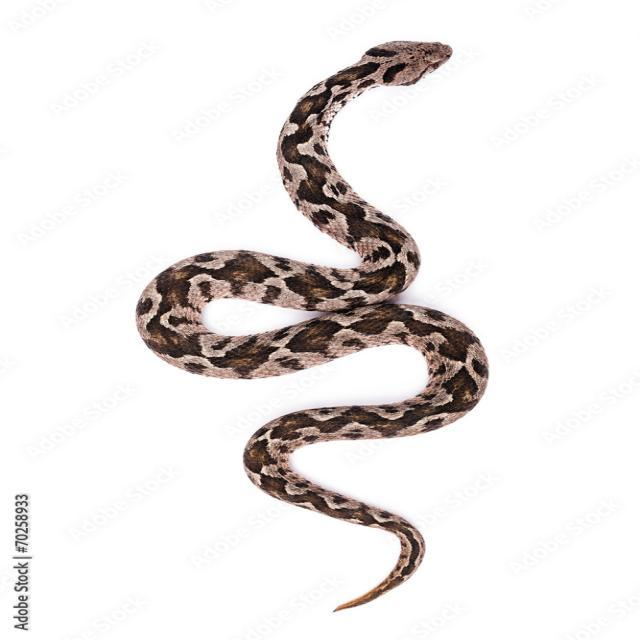Snake: (110, 1, 548, 626)
